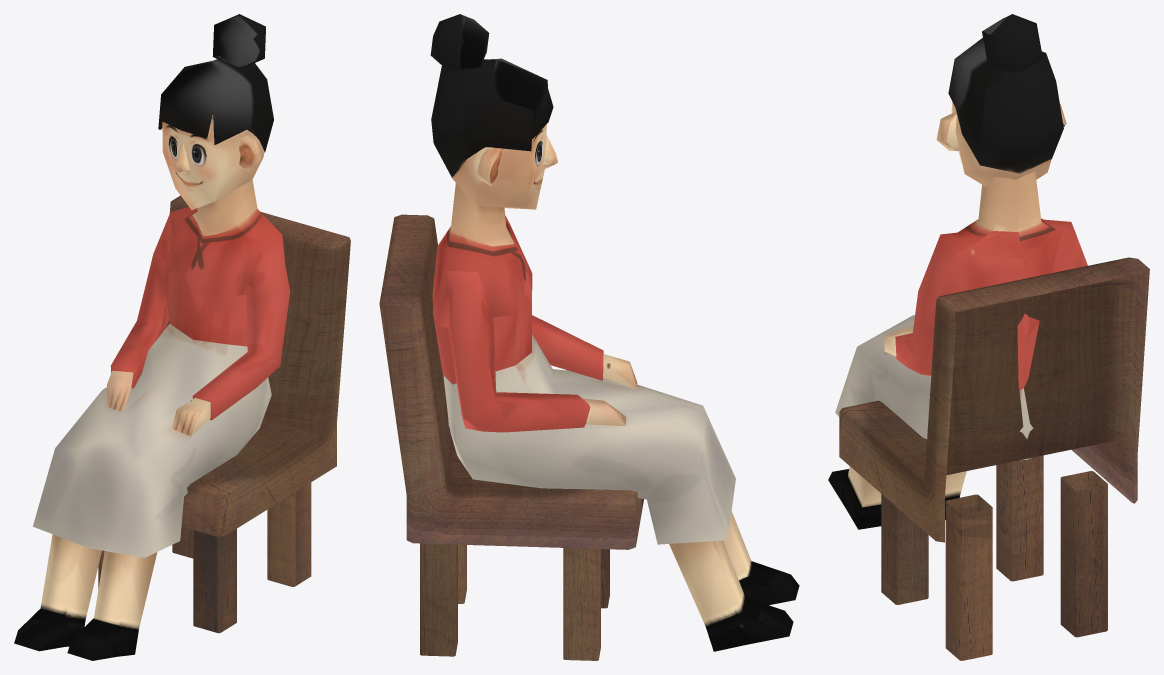
File: woman.gltf
3 renders of one model, left to right at view 1: azimuth 30°, elevation 25°; view 2: azimuth 150°, elevation 25°; view 3: azimuth 270°, elevation 25°, orthographic. The views are drawn at different scales.
Parts seen in each view (by area): view 1: Cube.153, Cube.145; view 2: Cube.153, Cube.145; view 3: Cube.145, Cube.153.
Boxes of the visible parts, left/top/right/bottom form: Cube.153: left=14, top=14, right=290, bottom=660; Cube.145: left=98, top=195, right=350, bottom=633; Cube.153: left=430, top=14, right=799, bottom=651; Cube.145: left=379, top=214, right=643, bottom=660; Cube.145: left=839, top=257, right=1149, bottom=660; Cube.153: left=828, top=14, right=1087, bottom=529.
Size of the model in its own units: 5.08 by 7.73 by 3.63.
Materials: 2 (2 with a texture image).
